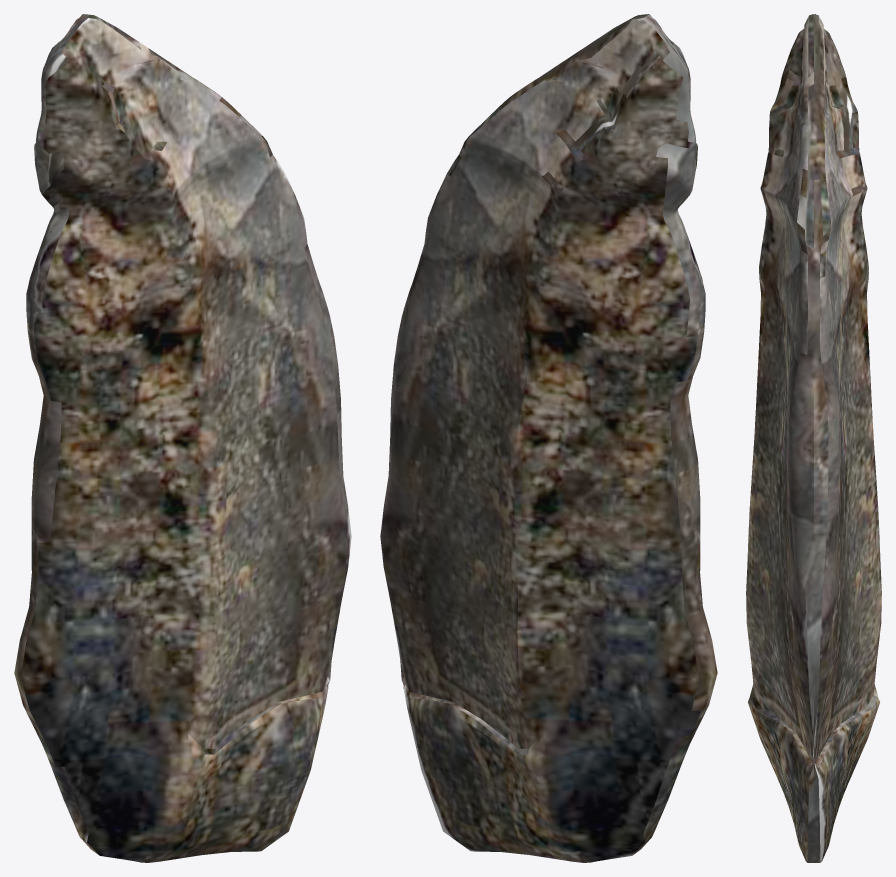
The model's file is pietraok.gltf.
3 views of the same model, side by side, from view 1: azimuth 30°, elevation 25°; view 2: azimuth 150°, elevation 25°; view 3: azimuth 270°, elevation 25° (orthographic). The views are drawn at different scales.
Parts seen in each view (by area): view 1: Simmetria_1; view 2: Simmetria_1; view 3: Simmetria_1.
Boxes of the visible parts, x1,y1,x2,y2 form: Simmetria_1: [14, 14, 351, 862]; Simmetria_1: [380, 14, 717, 862]; Simmetria_1: [746, 14, 881, 862].
Size of the model in its own units: 4.78 by 12.1 by 1.93.
1 material, 1 textured.
